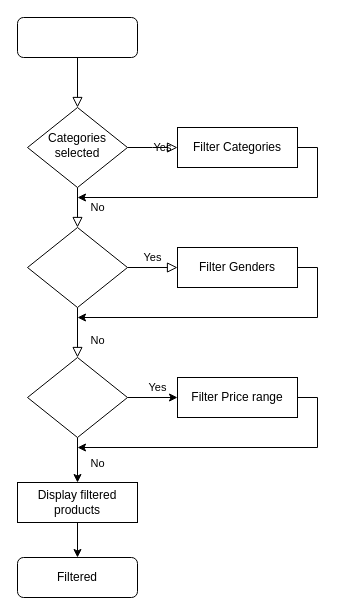
Image size: 343x615. Some labels were removed from this diagram. Here are the shapes that lost their labels. From the top down, the centre of each, then its label:
At point 77,37: "Filter".
At point 77,267: "Gender(s) selected".
At point 77,397: "Price range selected".
